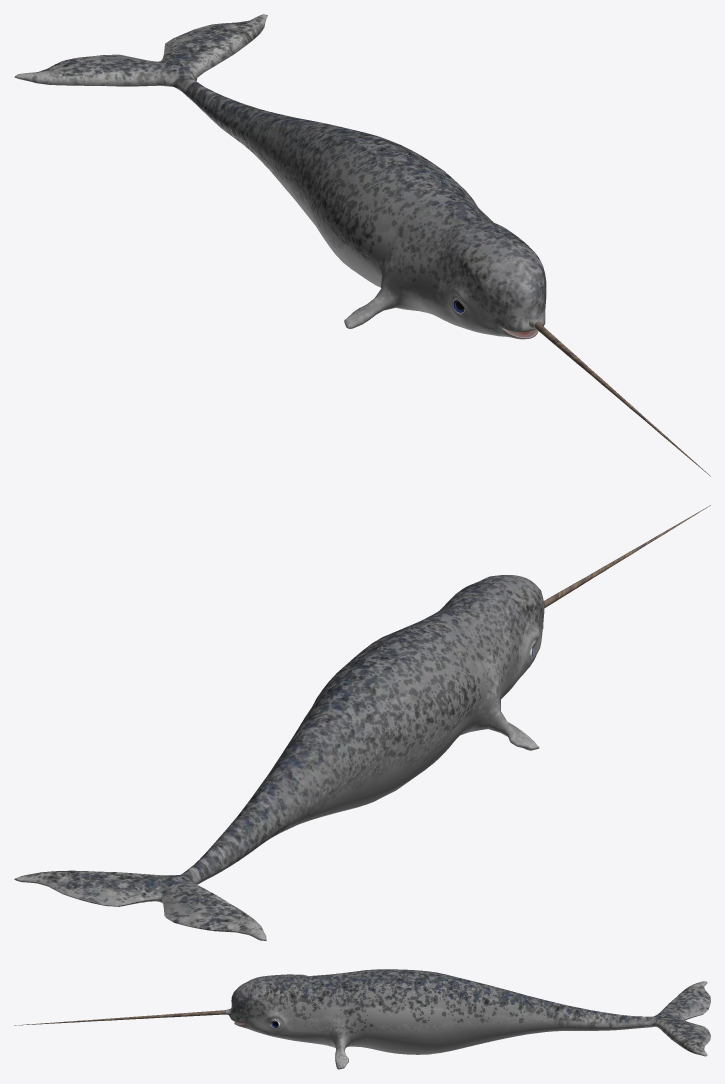
3 renders of one model, top to bottom at view 1: azimuth 30°, elevation 25°; view 2: azimuth 150°, elevation 25°; view 3: azimuth 270°, elevation 25°, orthographic. The views are drawn at different scales.
Visible parts, largest first — view 1: g (×2); view 2: g (×2); view 3: g (×2).
Boxes of the visible parts, left/top/right/bottom form: g (×2): left=14, top=14, right=710, bottom=476; g (×2): left=14, top=505, right=710, bottom=940; g (×2): left=14, top=969, right=710, bottom=1069.
Bounding box in the file's own units: 0.5094 × 0.2532 × 2.
Materials: 3 (3 with a texture image).
